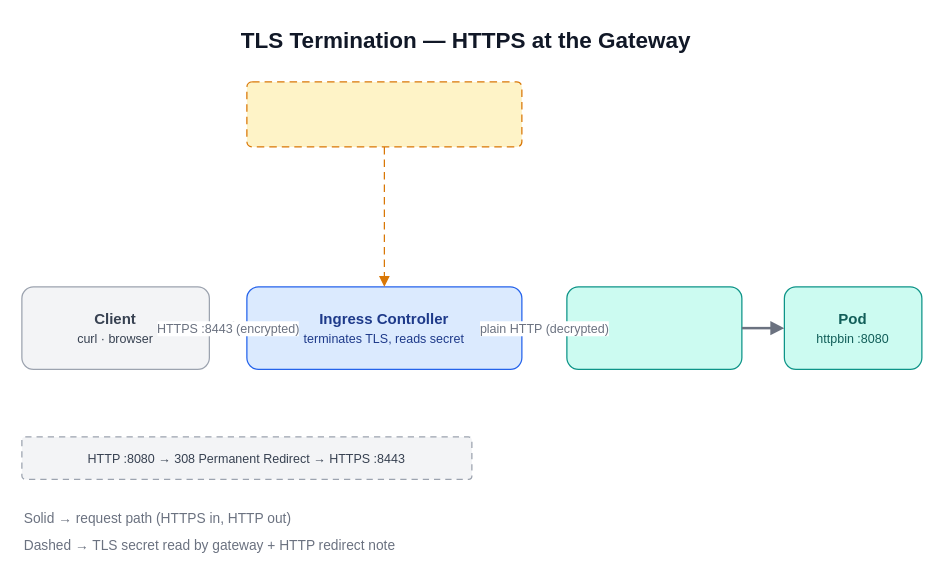
The diagram is 944 pixels wide and 578 high, and some of its shapes have lost their labels. Each missing label, with the centre of its shape:
httpbin-tls secret mkcert cert (localhost · 127.0.0.1): (384,114)
Service httpbin :80: (654,327)
